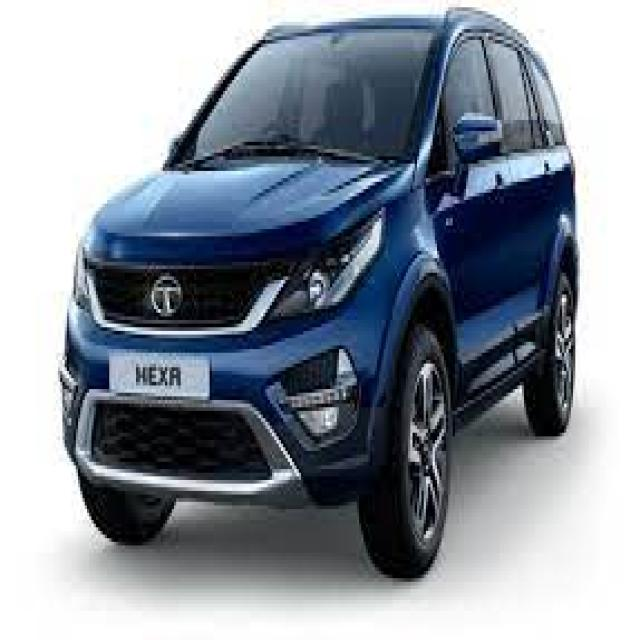Car: (64, 5, 577, 578)
